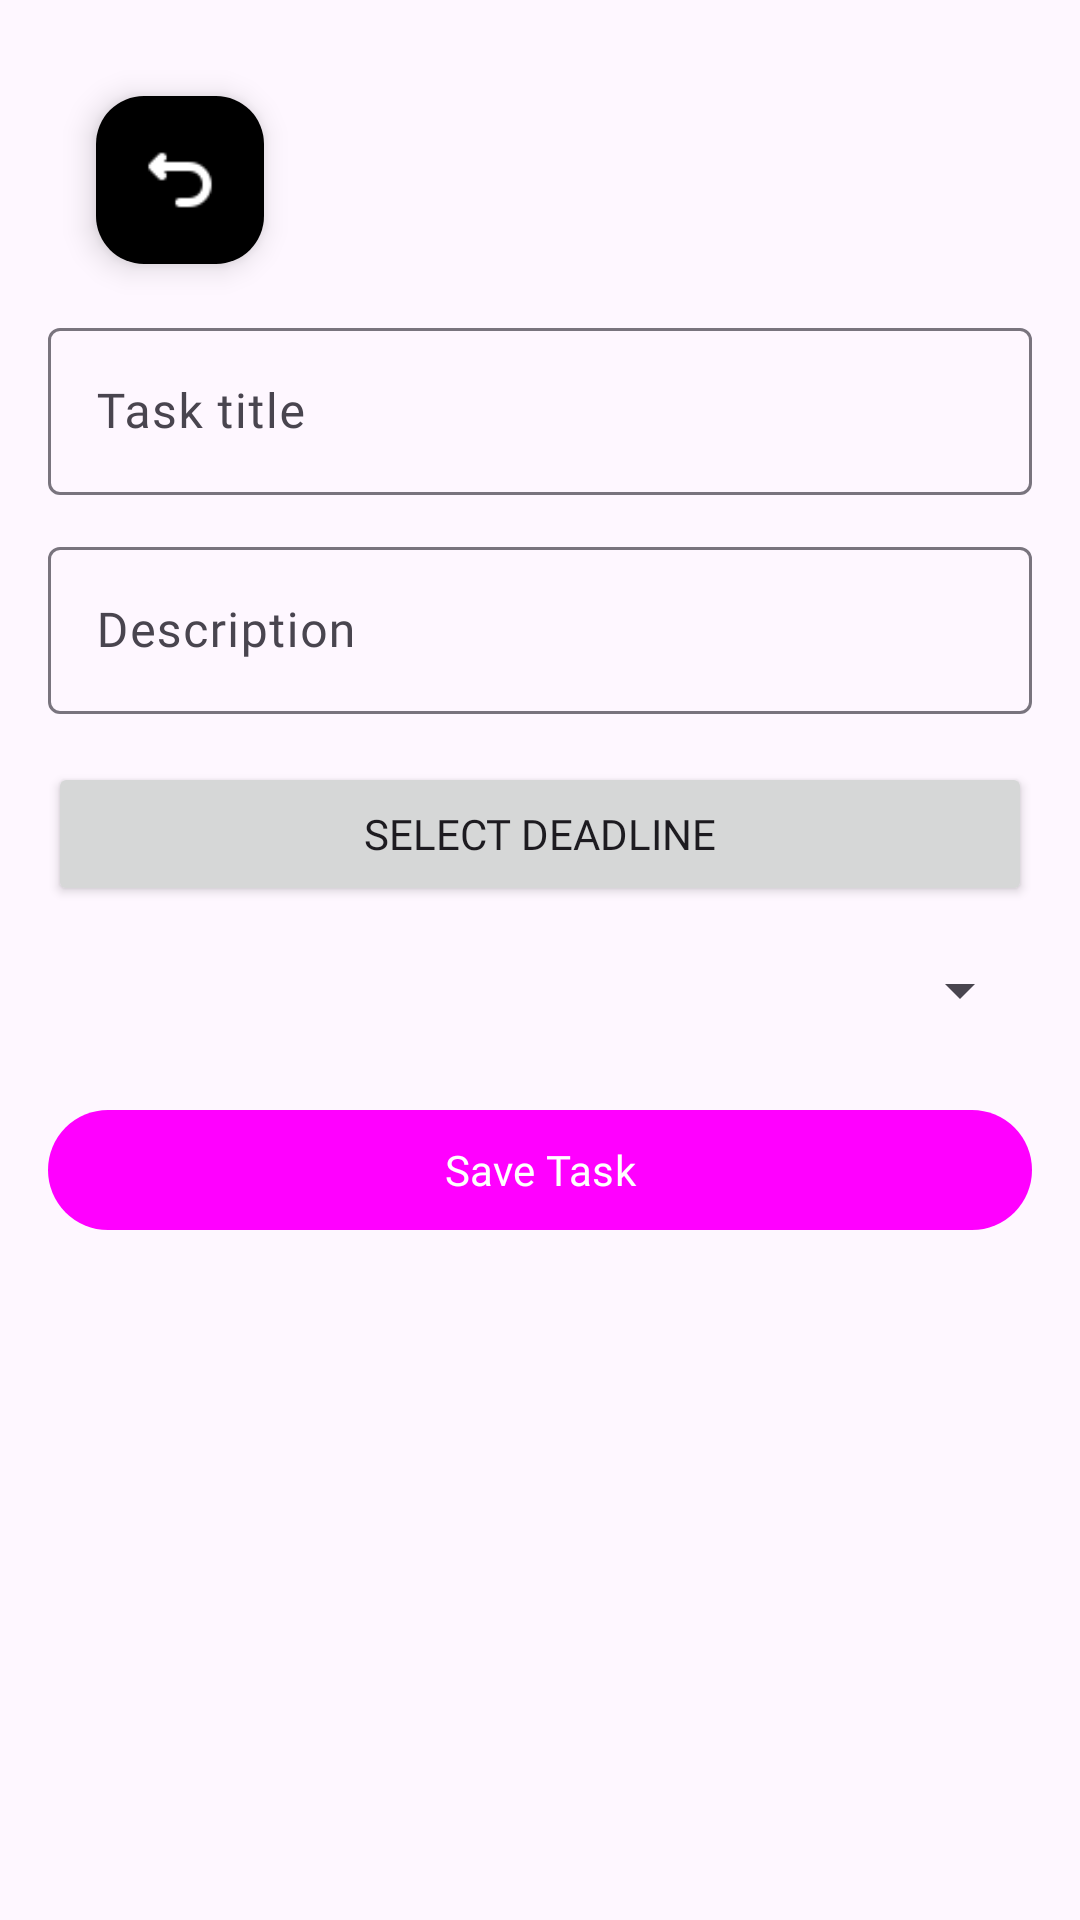

Point at icon controls on the screen. Image size 1080px x 1920px, points as (x=x, y=y).
Back: (x=180, y=180)
